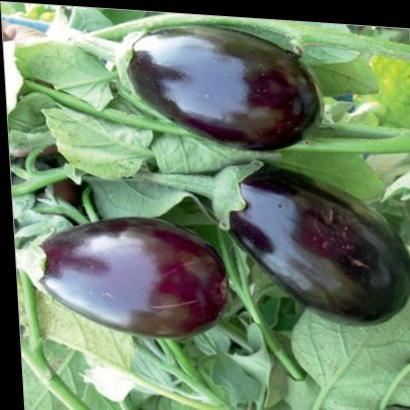eggplant: (9, 181, 225, 340), (190, 145, 409, 277), (101, 6, 305, 130)
